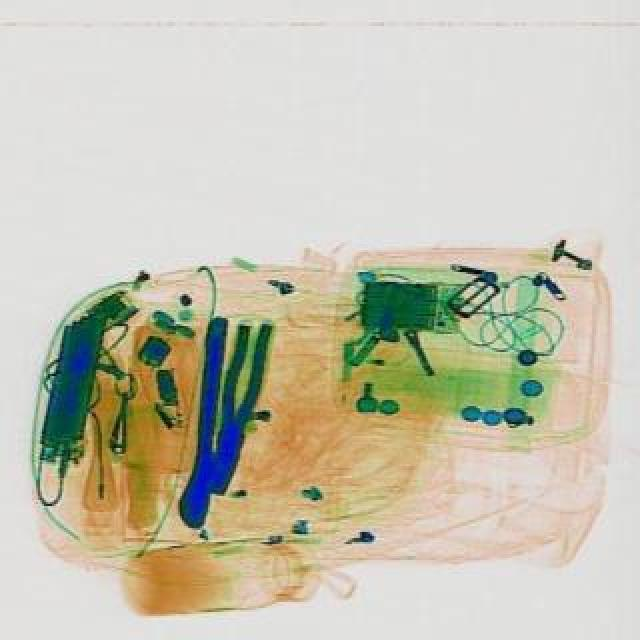scissors: (180, 312, 248, 528)
wrench: (208, 316, 280, 474)
